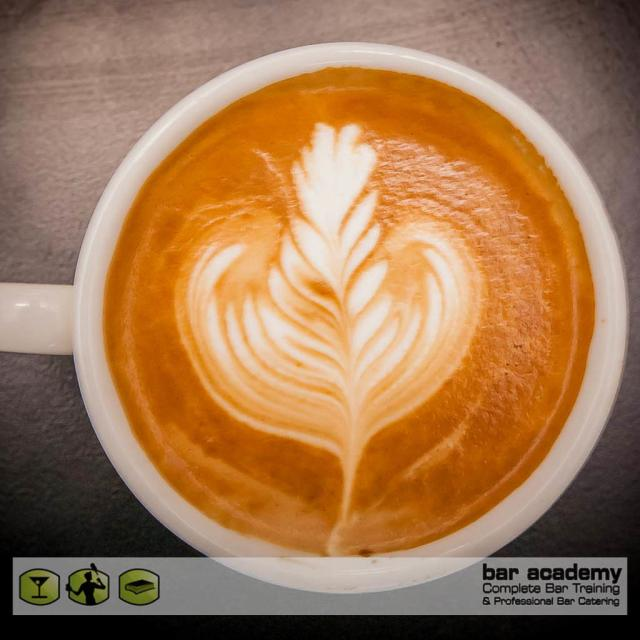Coffee: (100, 63, 592, 562)
